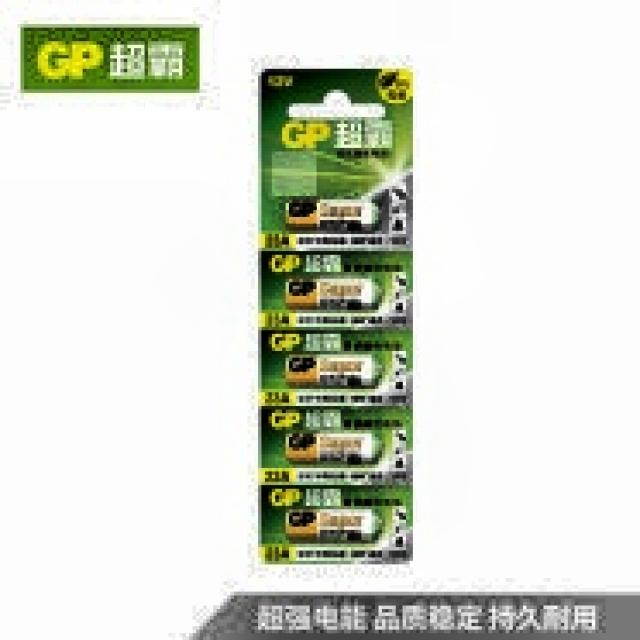Non-Valuable Waste - Batteries: (261, 70, 412, 563)
